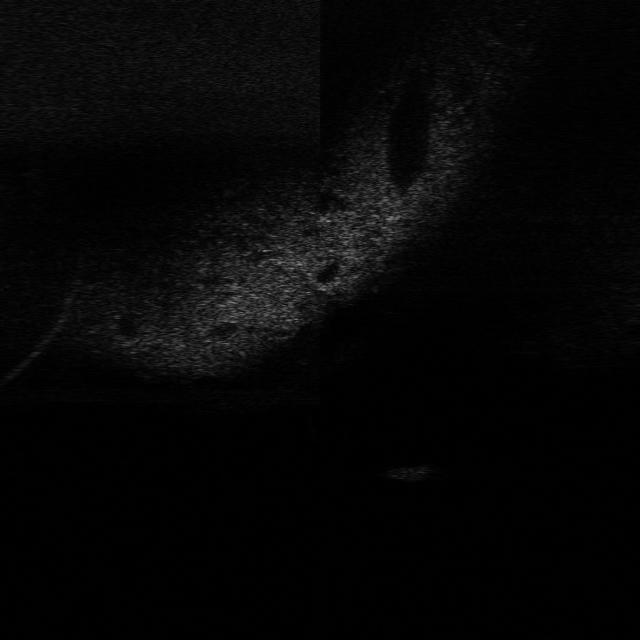cube: (383, 461, 439, 484)
